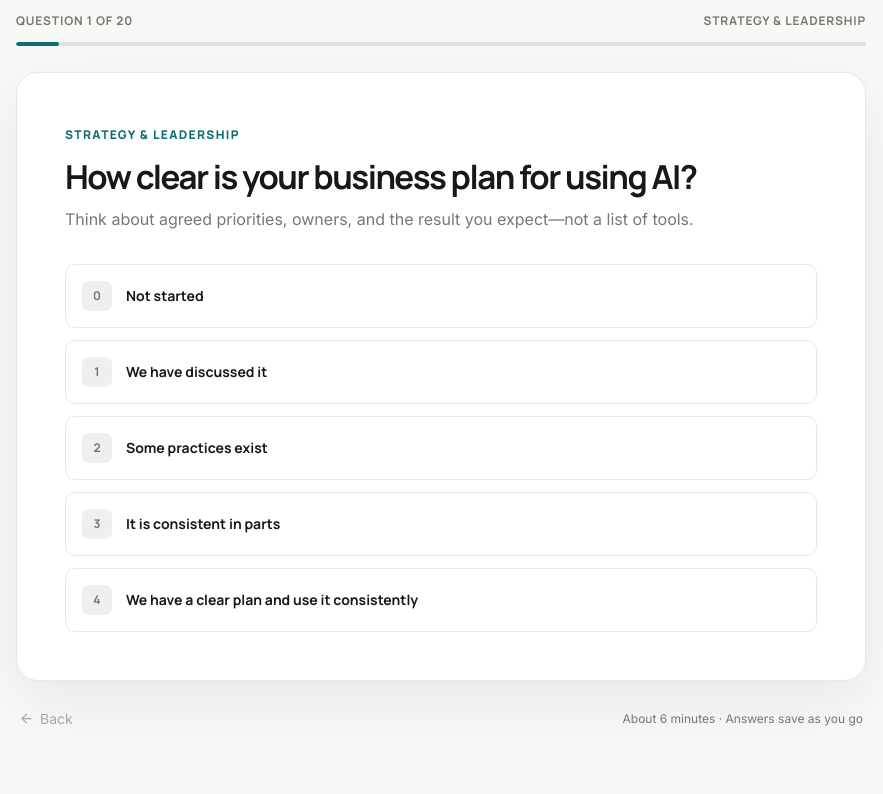
Test case: ScorecardClient › shows the selected answer when an owner returns to a question
Click the button "4 We have a clear plan and use it consistently": (272, 600) [65,568,817,632]
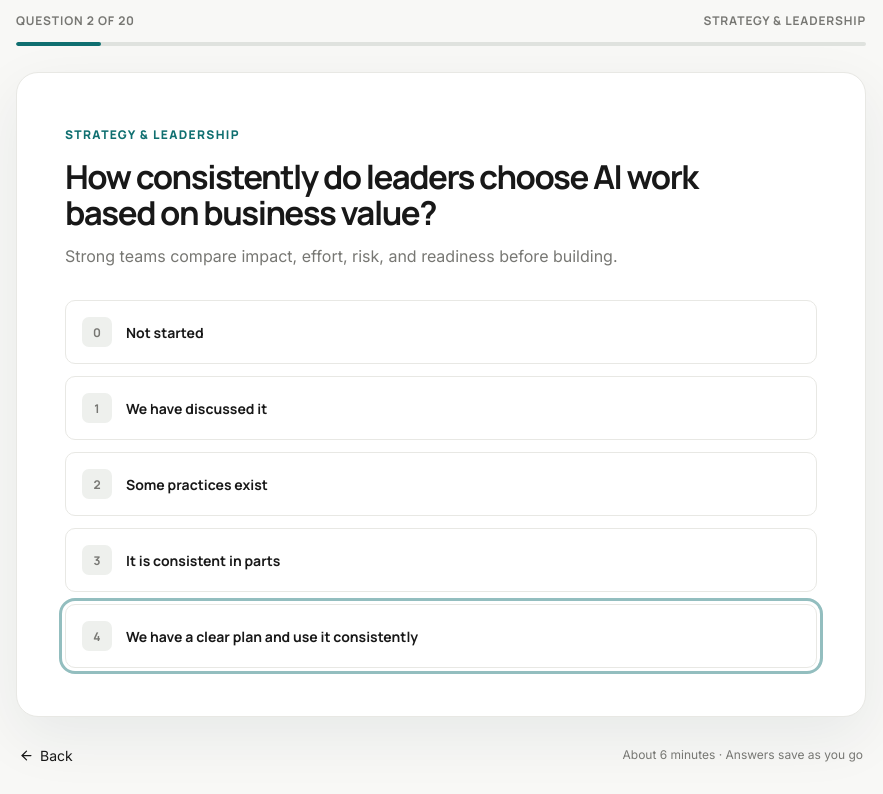
Click the button "Back": (46, 755) [19,733,73,777]
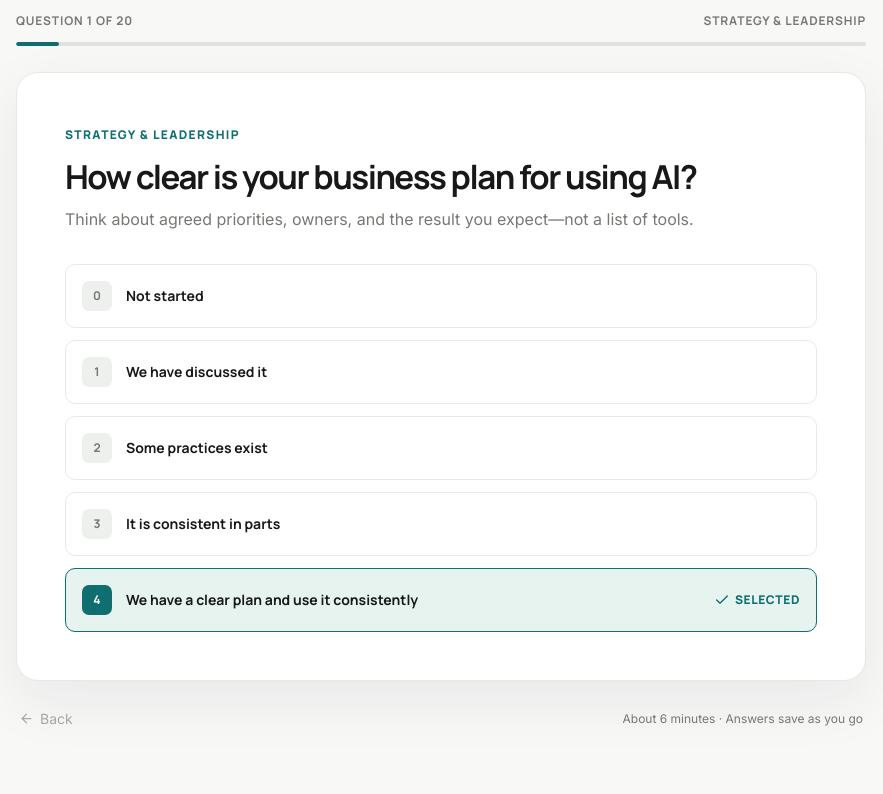
Check: the text "Selected" is shown, box [714,592,800,608]
